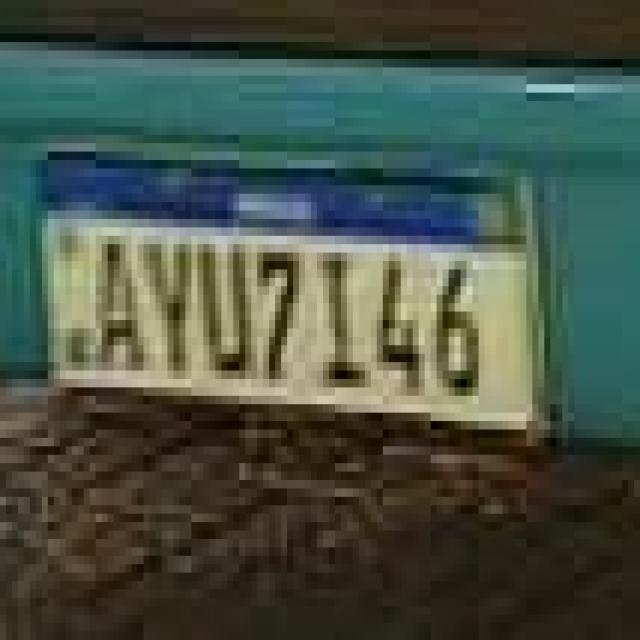4: (372, 243, 426, 399)
6: (430, 254, 485, 400)
7: (258, 242, 301, 380)
A: (92, 226, 147, 379)
I: (315, 240, 364, 394)
U: (199, 239, 250, 379)
Y: (140, 230, 192, 382)
